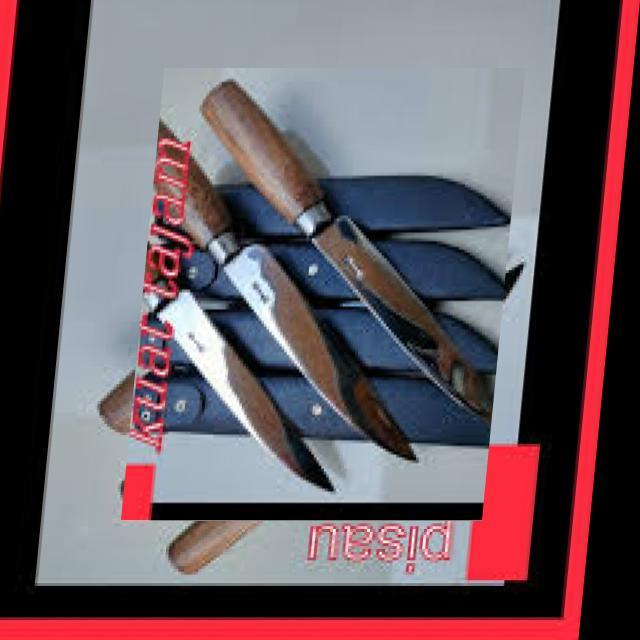knife: (198, 76, 494, 422), (154, 121, 422, 465), (142, 237, 339, 497)
